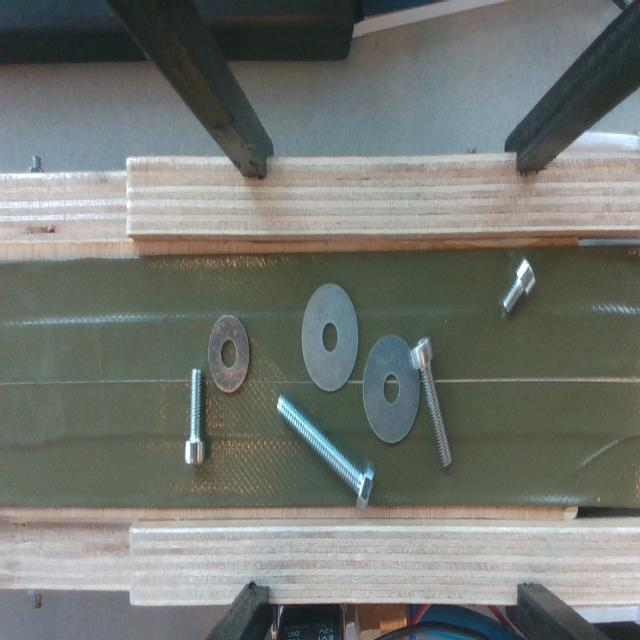Bolt: (263, 386, 382, 512), (408, 329, 457, 476), (176, 362, 218, 478), (494, 257, 540, 323)
Washer: (357, 328, 423, 453), (294, 277, 363, 393), (202, 312, 254, 398)
